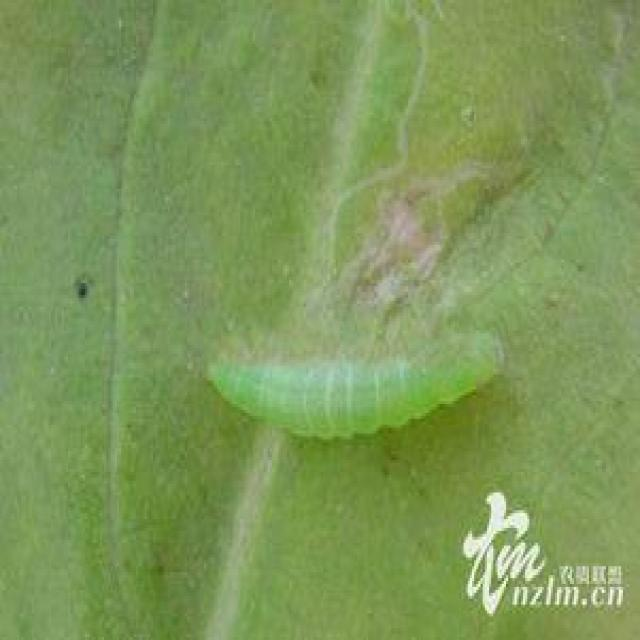armyworm: (211, 321, 515, 451)
